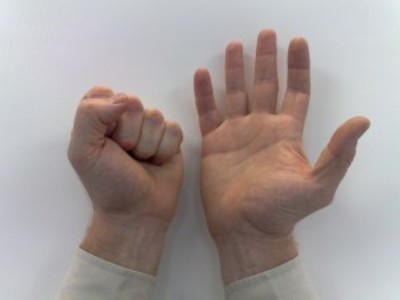closedhandfront: (53, 64, 199, 231)
